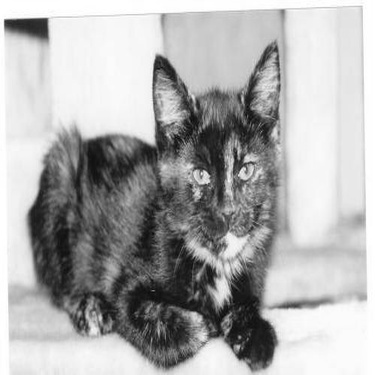cat: (23, 37, 282, 369)
